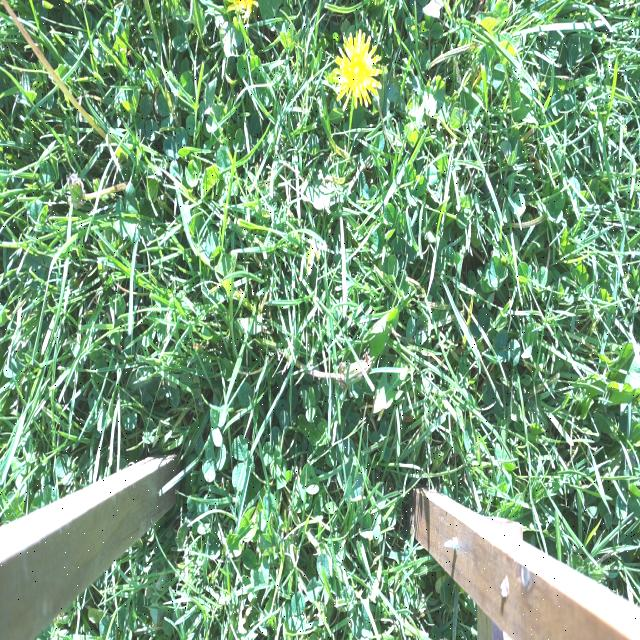dandelion: (0, 0, 640, 244)
